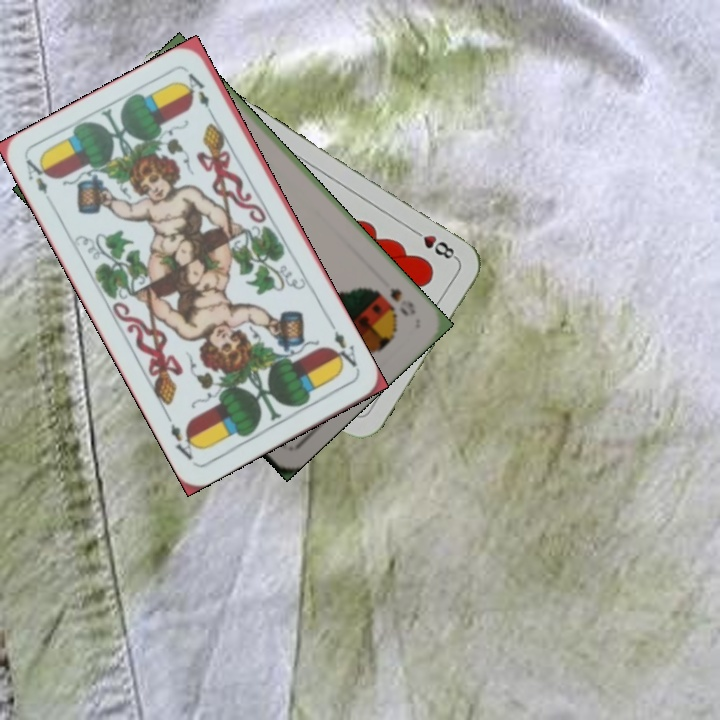EA: (326, 320, 362, 374), (21, 155, 54, 199)
H8: (407, 224, 460, 262)
SO: (386, 283, 419, 319)
